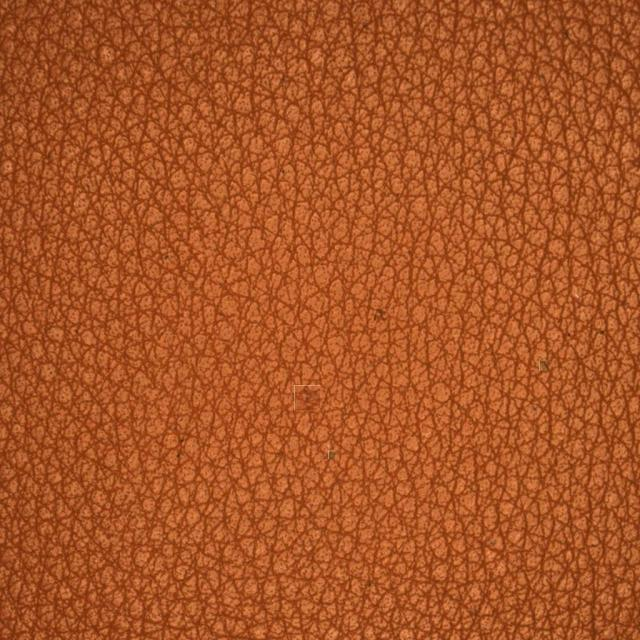Scratch: (238, 342, 377, 523)
pinhole: (484, 304, 606, 431)
